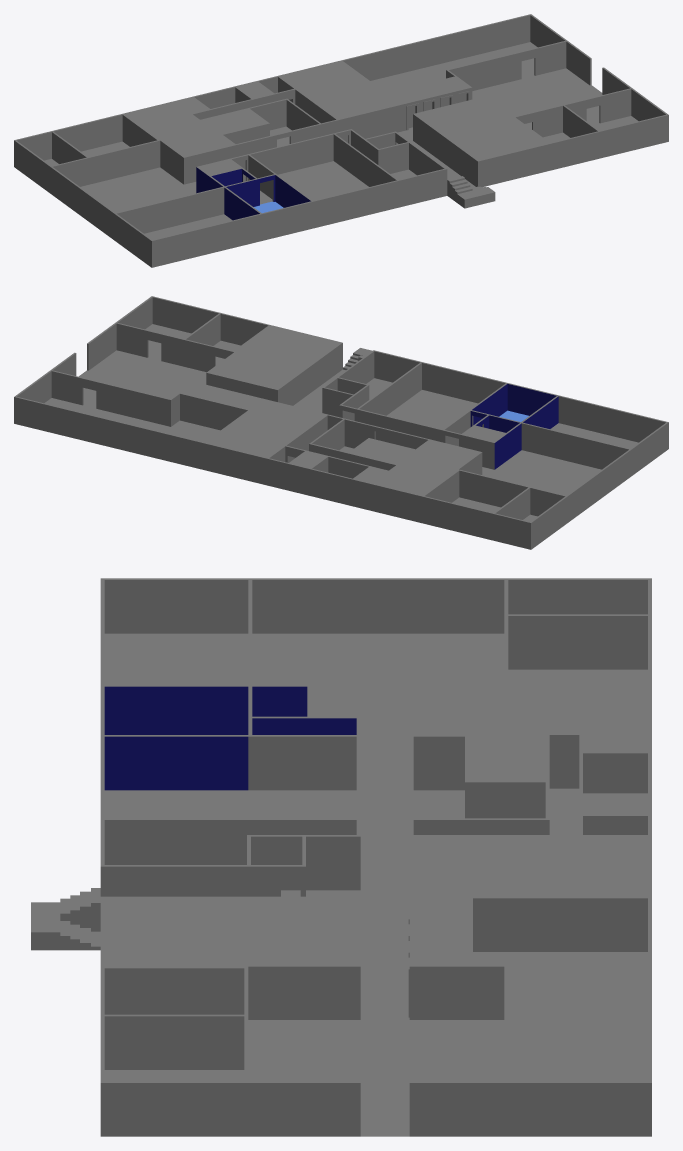
Rendered from wellbeing.gltf.
3 renders of one model, top to bottom at view 1: azimuth 30°, elevation 25°; view 2: azimuth 150°, elevation 25°; view 3: azimuth 270°, elevation 25°, orthographic. The views are drawn at different scales.
Parts seen in each view (by area): view 1: root; view 2: root; view 3: root.
Part boxes in pixels (x1,y1,x2,y2): root: [14, 14, 668, 267]; root: [14, 296, 668, 549]; root: [31, 578, 651, 1136].
Bounding box in the file's own units: 60.63 × 3 × 31.54.
